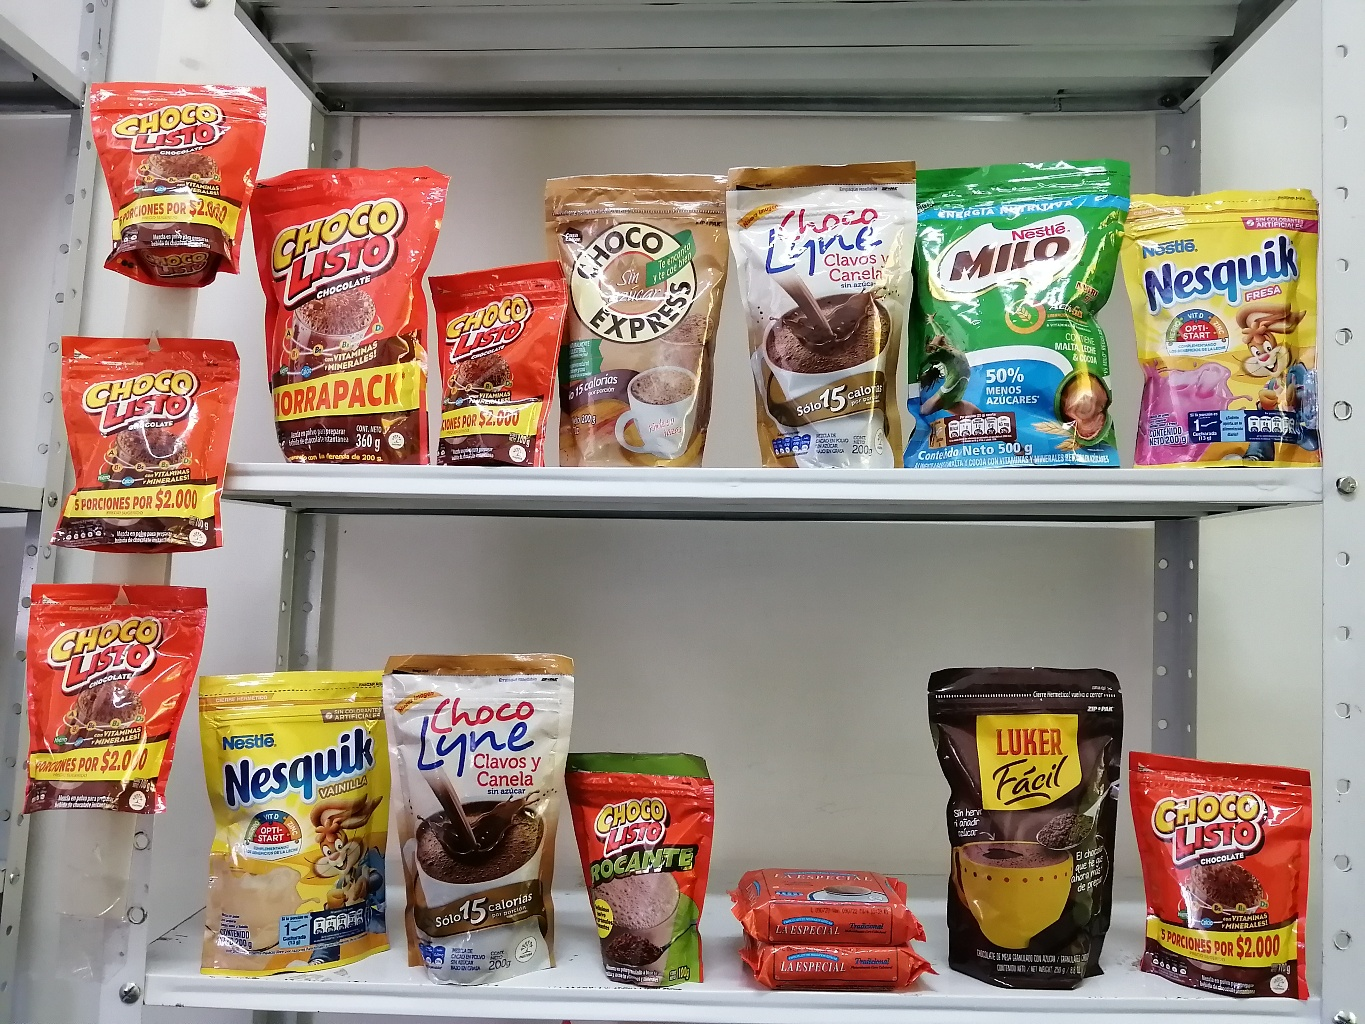COL0170102DYP10000: (561, 748, 719, 989)
COL0170103DYP36000: (244, 158, 450, 465)
COL0170205DYP50000: (914, 159, 1128, 469)
COL0170305DYP20000: (1125, 189, 1323, 466)
COL0170306DYP20000: (200, 674, 390, 977)
